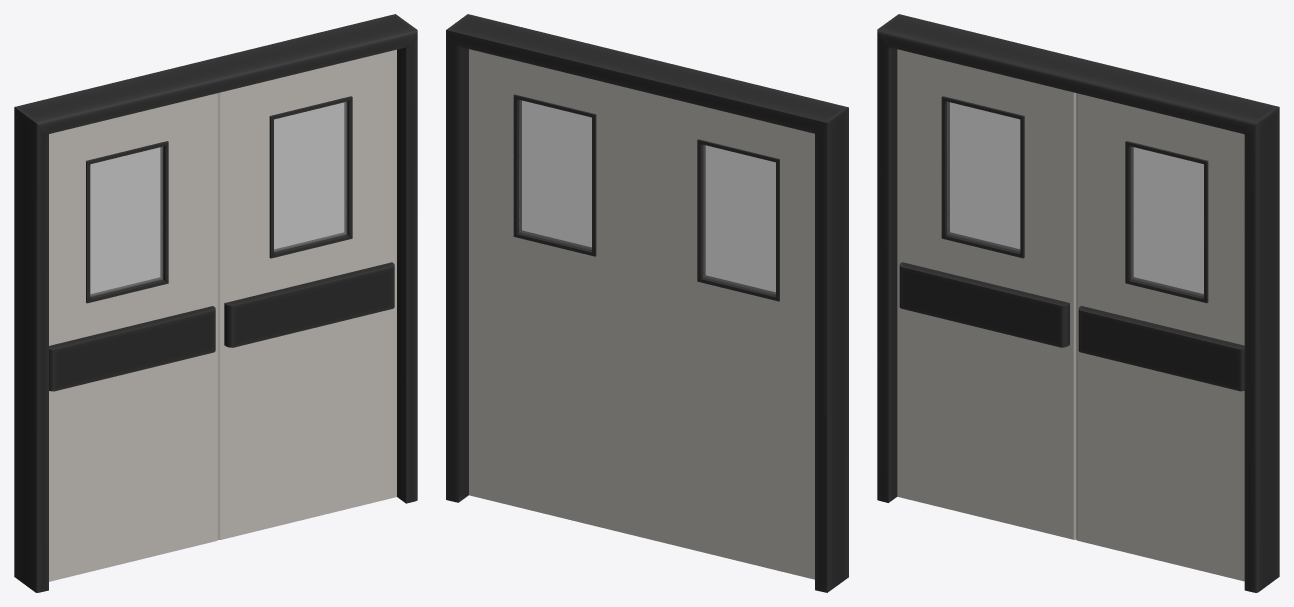
File: Door.fbx
3 views of the same model, side by side, from view 1: azimuth 30°, elevation 25°; view 2: azimuth 150°, elevation 25°; view 3: azimuth 330°, elevation 25° (orthographic).
Visible parts, largest first — view 1: Door3; view 2: Door3; view 3: Door3.
Boxes of the visible parts, x1,y1,x2,y2 form: Door3: (14, 14, 417, 592); Door3: (446, 14, 848, 592); Door3: (877, 14, 1279, 592).
Size of the model in its own units: 207 by 244 by 21.65.
